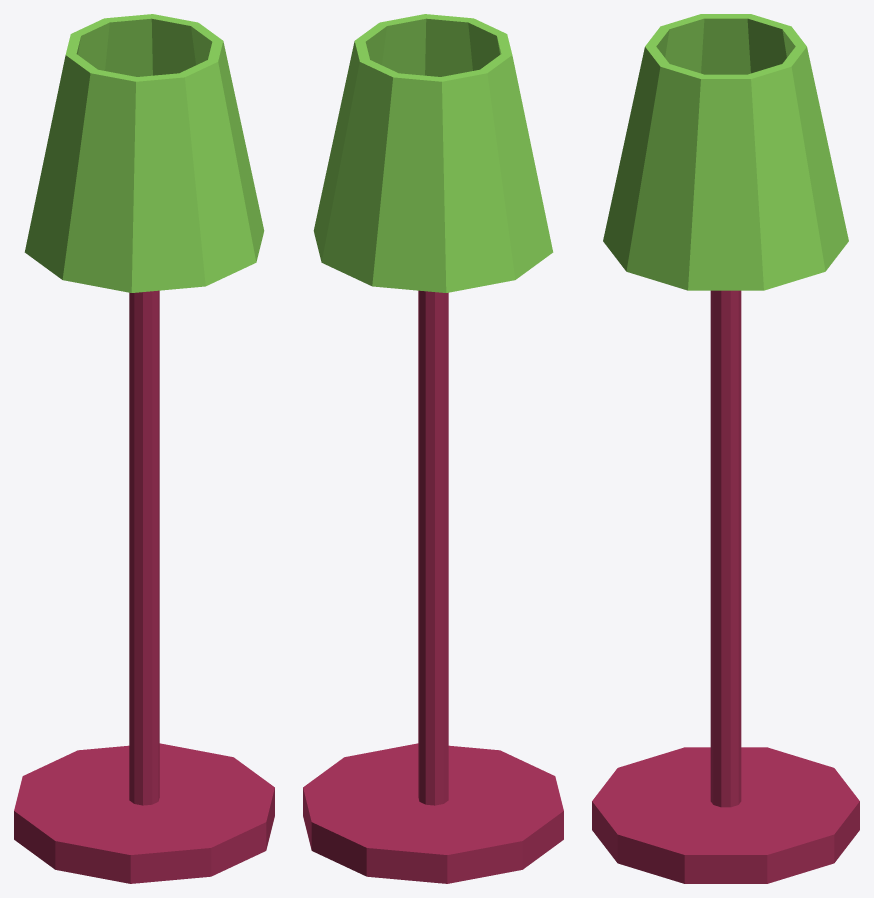
File: StandingLamp2.fbx
3 views of the same model, side by side, from view 1: azimuth 30°, elevation 25°; view 2: azimuth 150°, elevation 25°; view 3: azimuth 270°, elevation 25° (orthographic).
Parts seen in each view (by area): view 1: Cylinder; view 2: Cylinder; view 3: Cylinder.
Boxes of the visible parts, <box> form: Cylinder: <box>14,14,274,883</box>; Cylinder: <box>303,14,563,883</box>; Cylinder: <box>592,14,859,883</box>.
Bounding box in the file's own units: 86.34 × 293 × 90.78.
